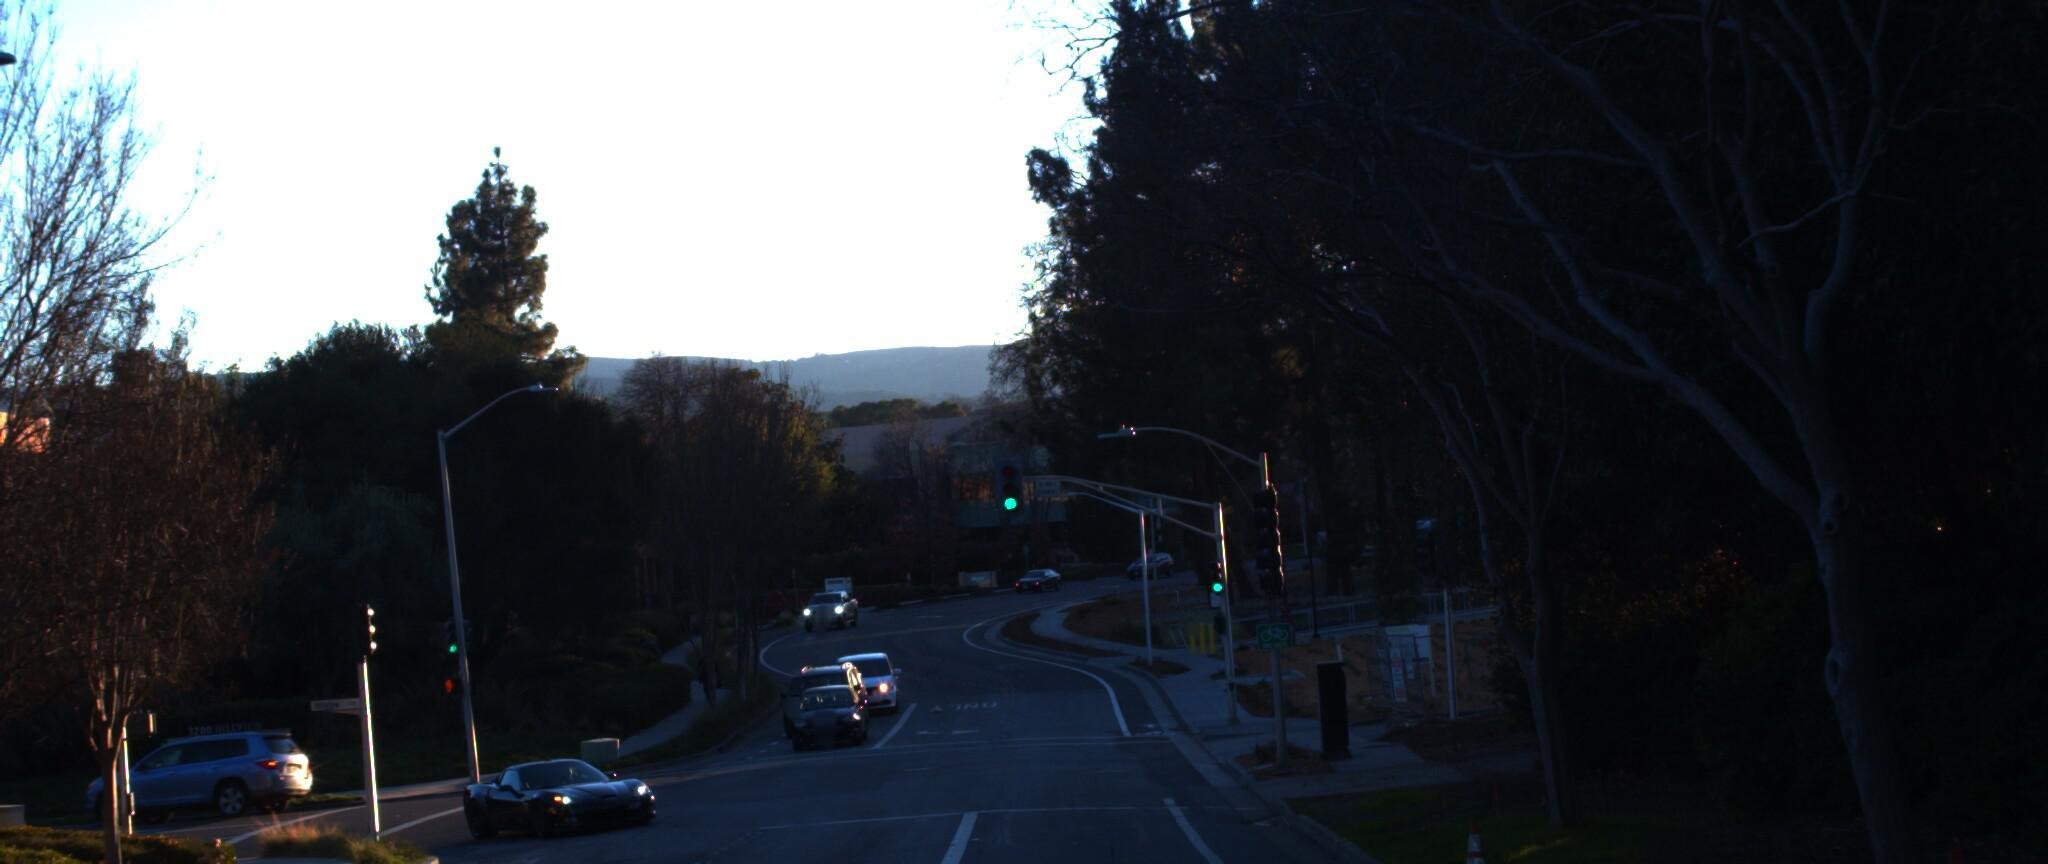car: (72, 718, 330, 827), (473, 737, 694, 827)
